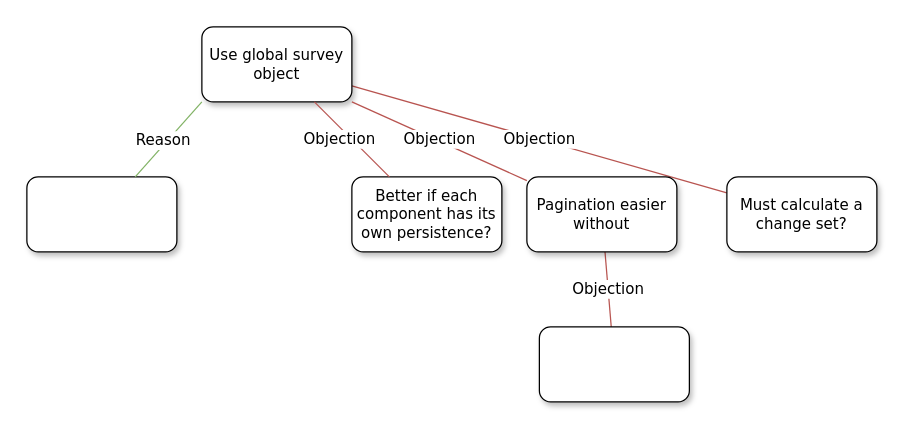
This 906x433 diagram has some shape labels left out. The centre of each missing label's shape, as x and y in pixels:
Enables co-op edit: [102,216]
Won't need pagination, since 3000 question is only 500 kb: [615,366]
